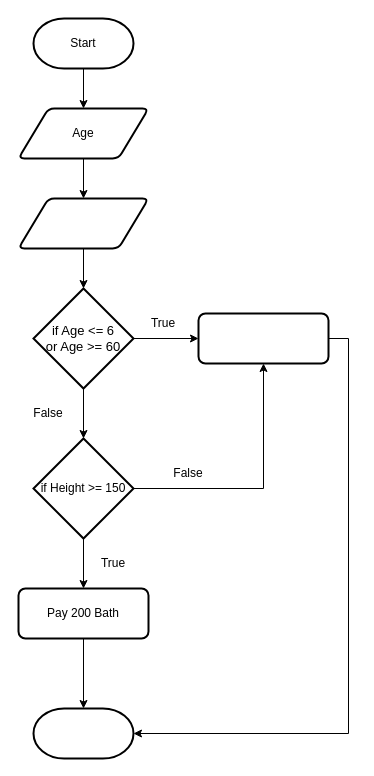
This 374x776 diagram has some shape labels left out. Each missing label, with the centre of its shape:
"End" belongs at (83,733).
"Enter" belongs at (263,338).
"Height" belongs at (83,223).
